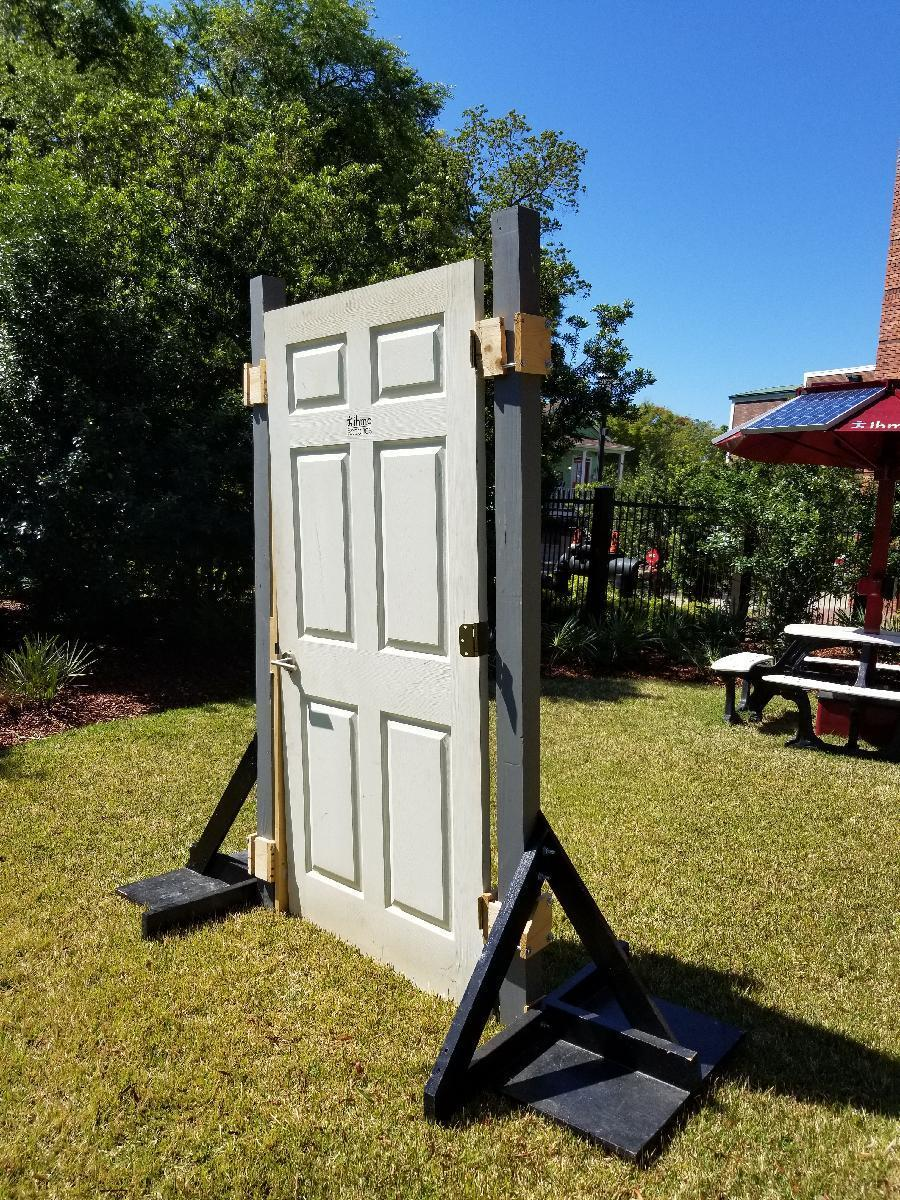door: (264, 311, 490, 990)
handle: (274, 650, 306, 680)
